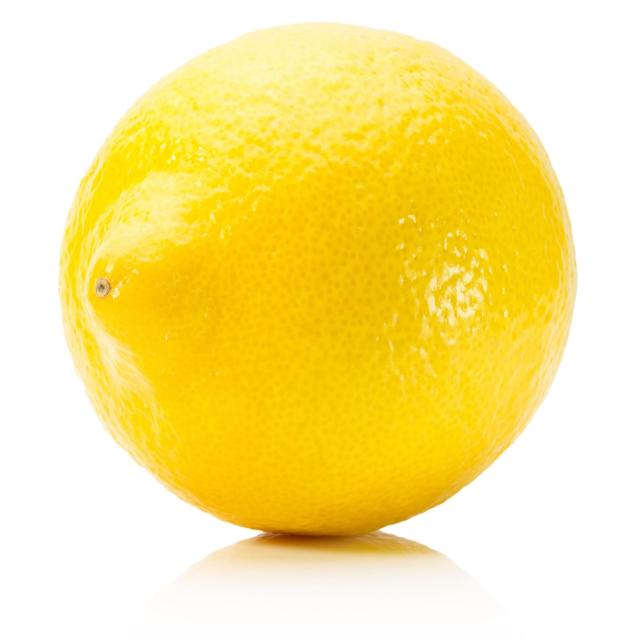lemon: (52, 18, 584, 542)
